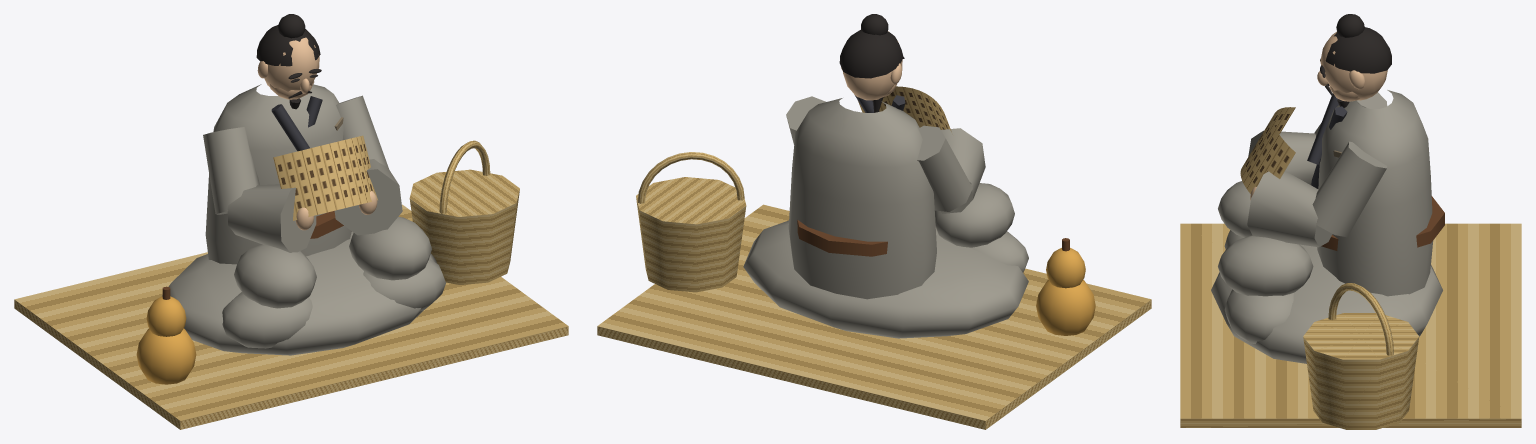
Rendered from yanhui.glb.
3 views of the same model, side by side, from view 1: azimuth 30°, elevation 25°; view 2: azimuth 150°, elevation 25°; view 3: azimuth 270°, elevation 25° (orthographic). The views are drawn at different scales.
Parts seen in each view (by area): view 1: YanHui; view 2: YanHui; view 3: YanHui.
Part boxes in pixels (x1,y1,x2,y2): YanHui: [14, 14, 568, 429]; YanHui: [597, 14, 1151, 429]; YanHui: [1180, 14, 1521, 429].
Size of the model in its own units: 1.46 by 1.02 by 1.
10 materials, 2 textured.
